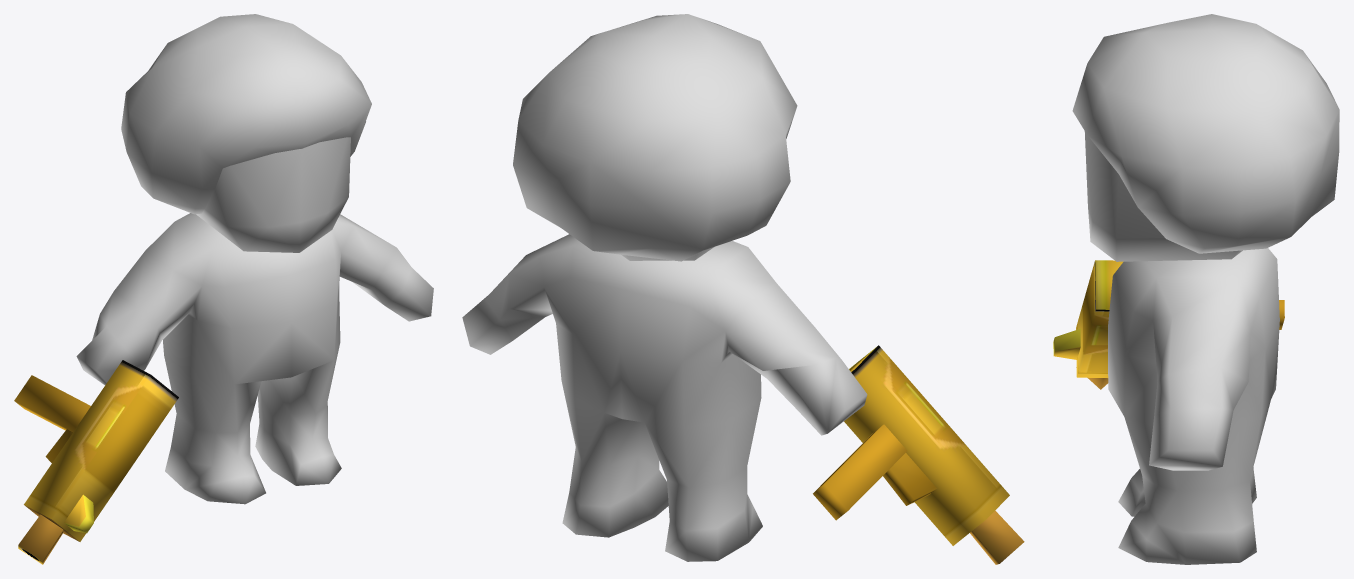
File: BobSurvivor.fbx
3 renders of one model, left to right at view 1: azimuth 30°, elevation 25°; view 2: azimuth 150°, elevation 25°; view 3: azimuth 270°, elevation 25°, orthographic. The views are drawn at different scales.
Parts seen in each view (by area): view 1: head_22_afro_B_1, w_mac10; view 2: head_22_afro_B_1, w_mac10; view 3: head_22_afro_B_1, w_mac10.
Part boxes in pixels (x1,y1,x2,y2): head_22_afro_B_1: (76,14,433,504); w_mac10: (14,360,178,564); head_22_afro_B_1: (462,14,867,561); w_mac10: (813,345,1024,564); head_22_afro_B_1: (1072,14,1339,564); w_mac10: (1053,260,1284,389).
Bounding box in the file's own units: 1.19 × 1.12 × 0.5843.
